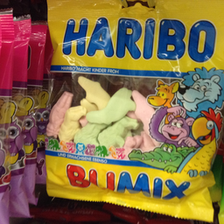candy: (45, 4, 223, 222)
